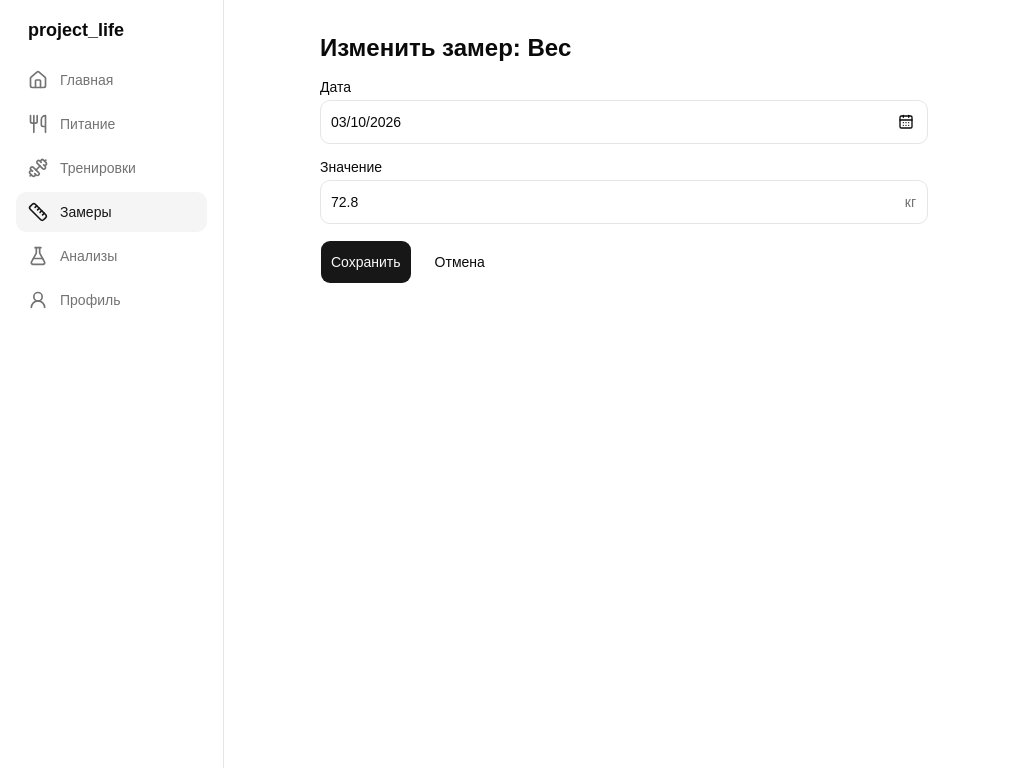
Test case: правка замера › пустое значение не отправляет
Clear the field labelled "Значение" at (624,202), box top-left (320, 180), bottom-right (928, 224)
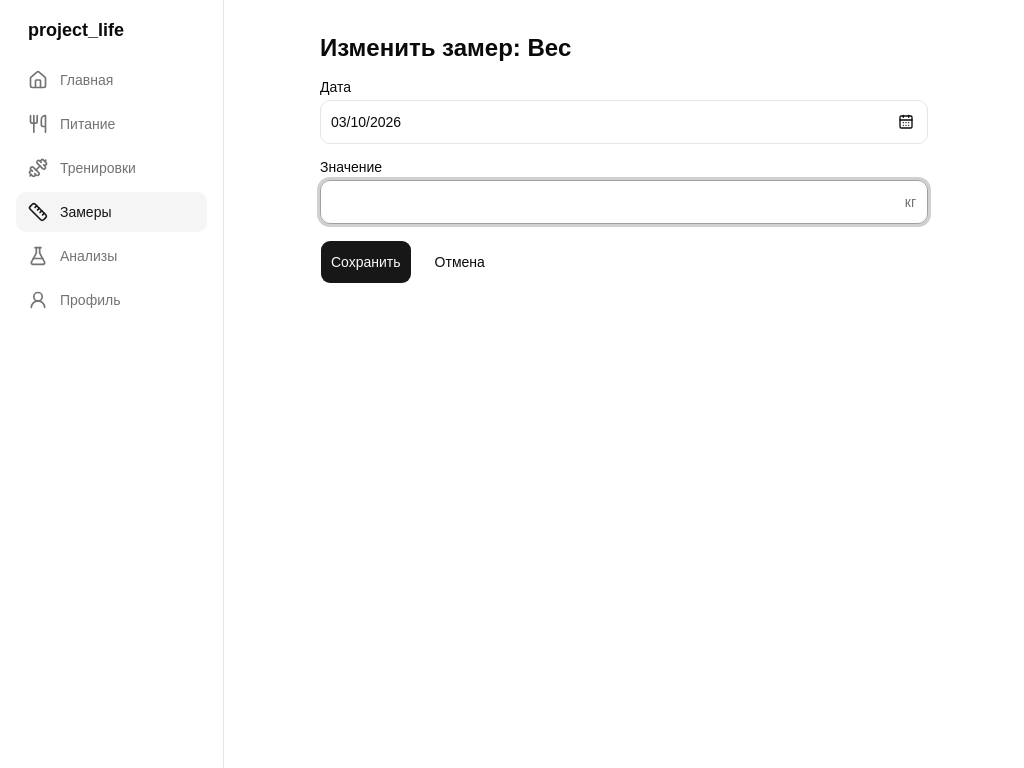
Click the button "Сохранить".
click(366, 262)  # box top-left (320, 240), bottom-right (412, 284)
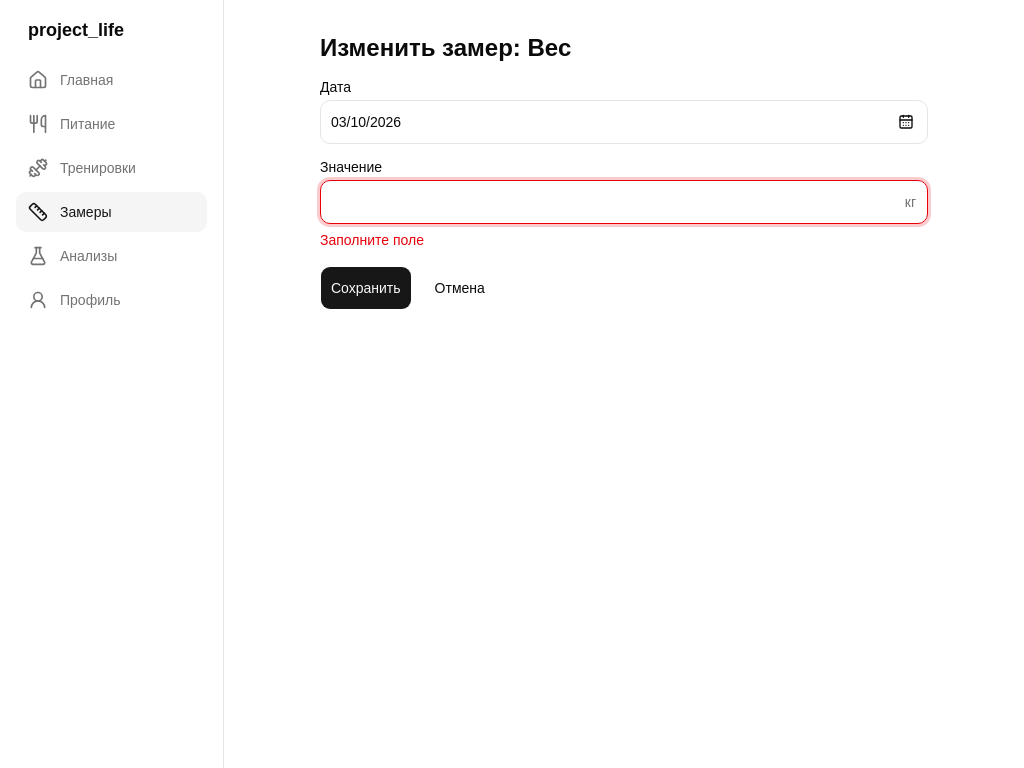
Check: the text "Заполните поле" is shown, box top-left (320, 232), bottom-right (424, 248)
